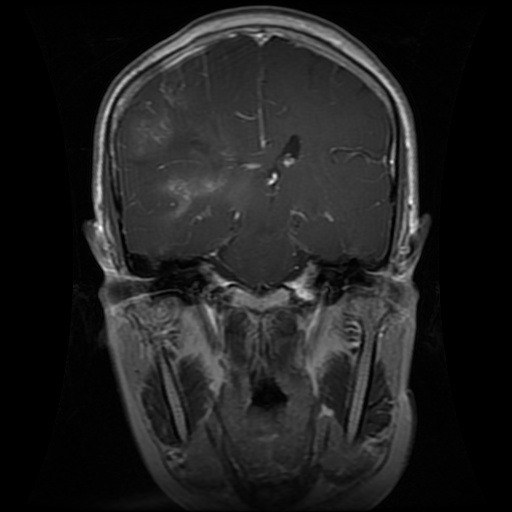glioma: (155, 127, 254, 219)
